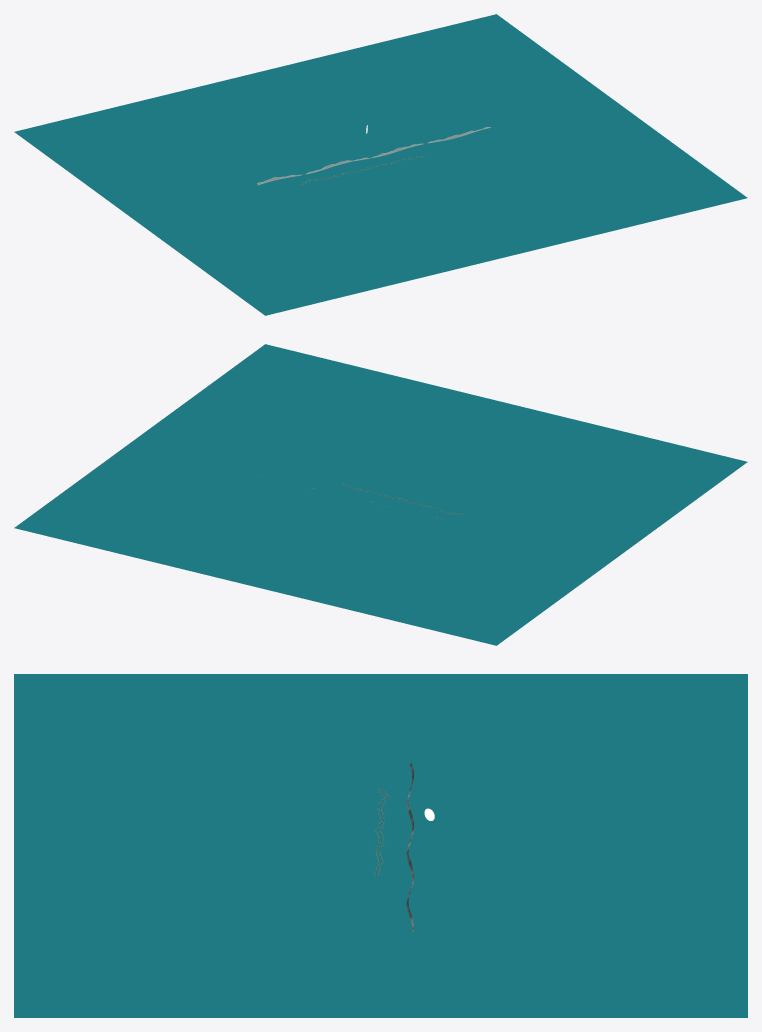
The model's file is atlanticroad.glb.
The picture shows the model from 3 angles, top to bottom: view 1: azimuth 30°, elevation 25°; view 2: azimuth 150°, elevation 25°; view 3: azimuth 270°, elevation 25°; orthographic projection. The views are drawn at different scales.
Parts seen in each view (by area): view 1: Sea, Peaks; view 2: Sea; view 3: Sea.
Boxes of the visible parts, x1=… form: Sea: x1=14, y1=14, x2=747, y2=315; Peaks: x1=257, y1=127, x2=490, y2=185; Sea: x1=14, y1=344, x2=747, y2=645; Sea: x1=14, y1=674, x2=747, y2=1017.
Size of the model in its own units: 51000 by 2726 by 46000.
